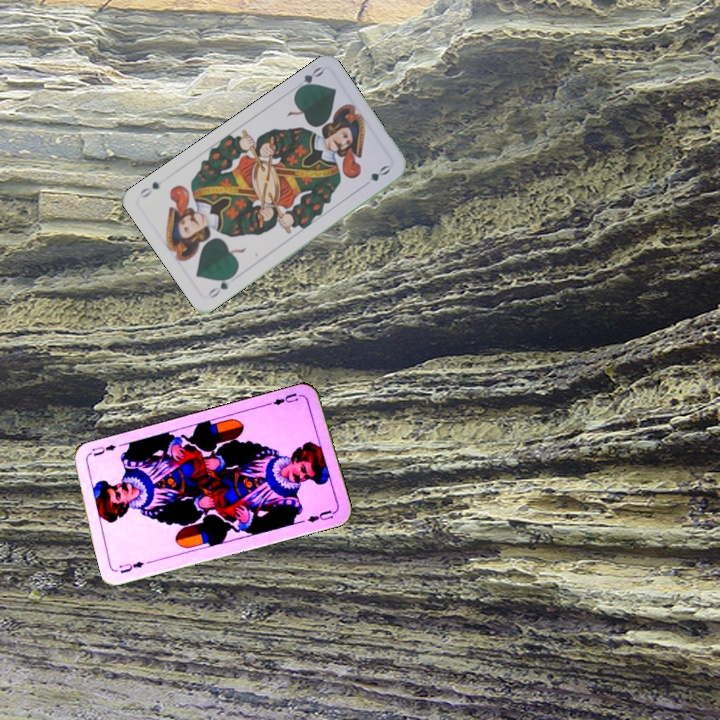EU: (264, 389, 301, 410), (115, 557, 147, 576)
GO: (292, 63, 326, 95), (204, 270, 238, 301)
